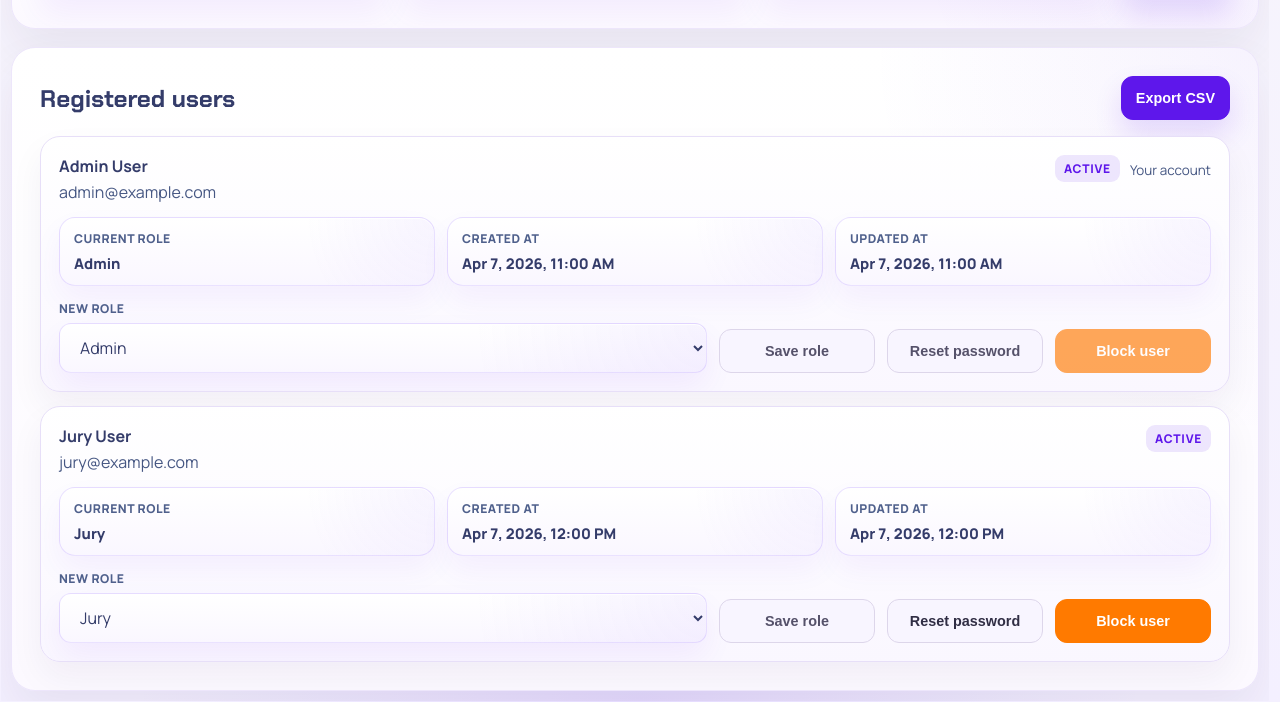
Test: AdminUsersPage › loads users, updates role, and blocks a user
(page scrolled)
Check: the text "Jury User" is shown, box [59,426,132,448]
Select "Organizer" in the dropdown labelled "New role" below "jury@example.com" at point(383, 618), box [59,594,707,644]
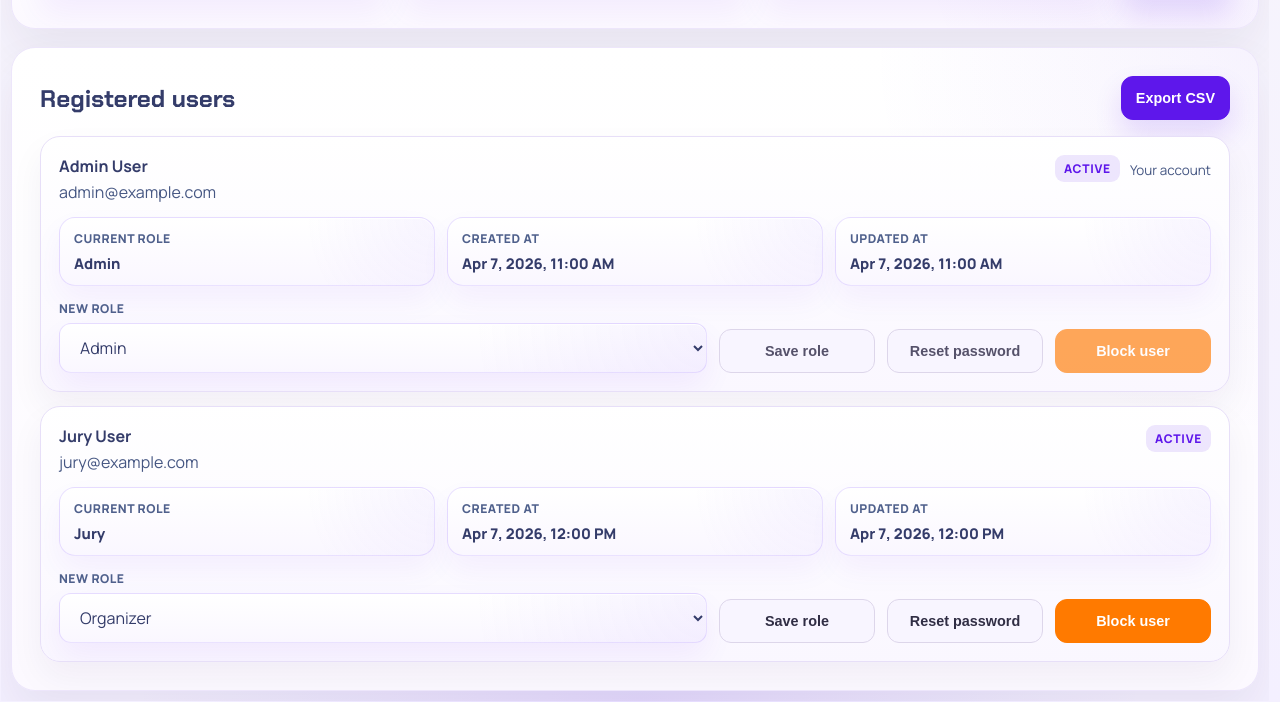
Click the 2nd button "Save role" at point(797, 622), box [719,600,875,644]
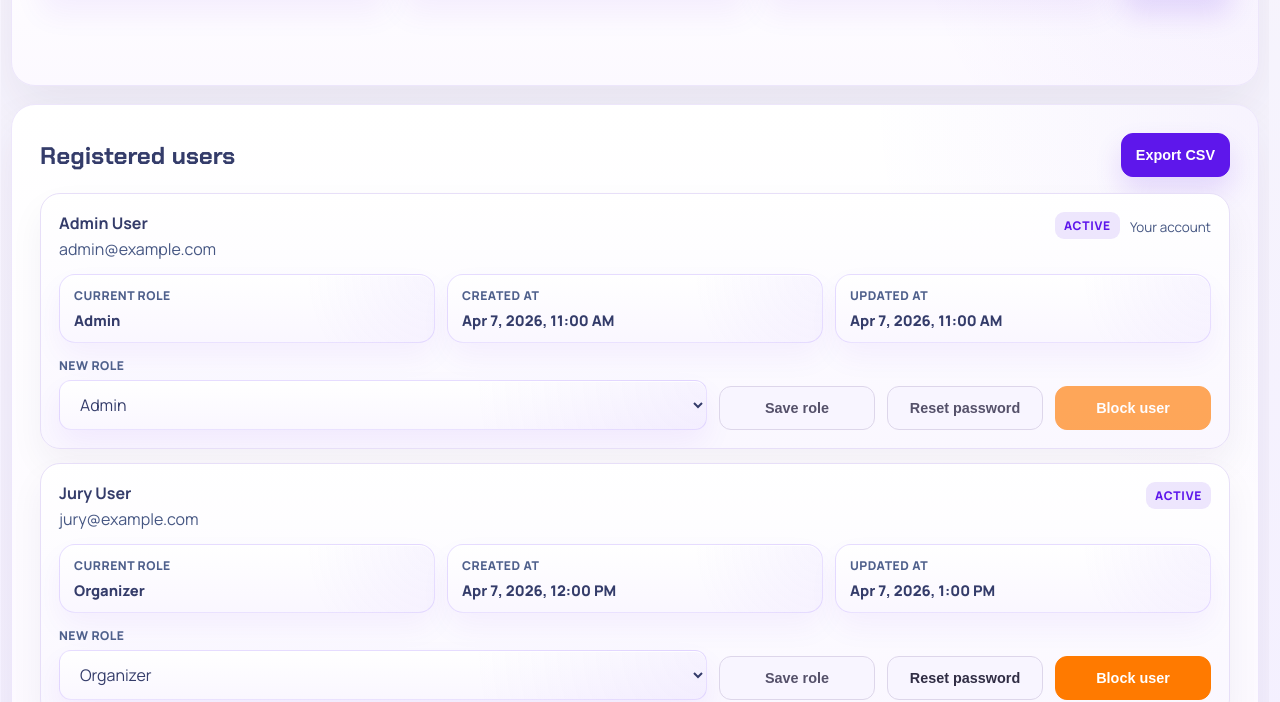
Click the button "Block user" below "Apr 7, 2026, 1:00 PM" at point(1133, 678), box [1055,656,1211,700]
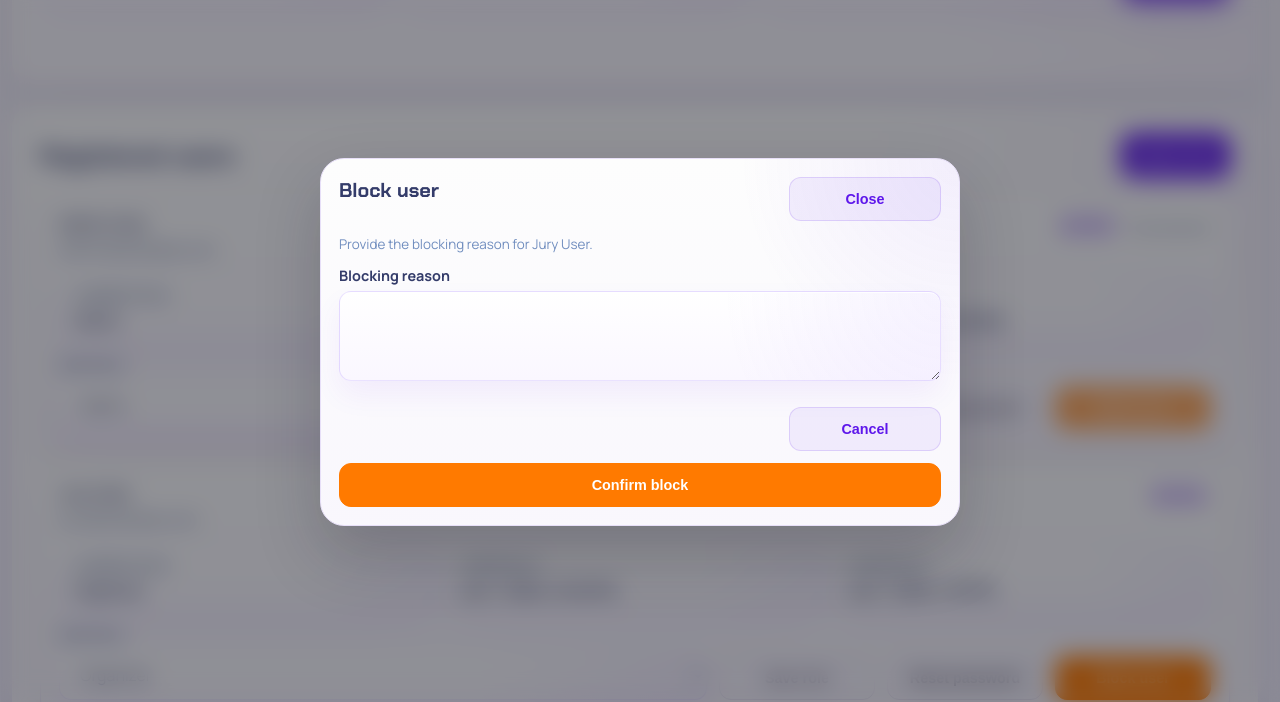
Type "Repeated policy violations" into the text box labelled "Blocking reason" at point(640, 336), box [339,291,941,381]
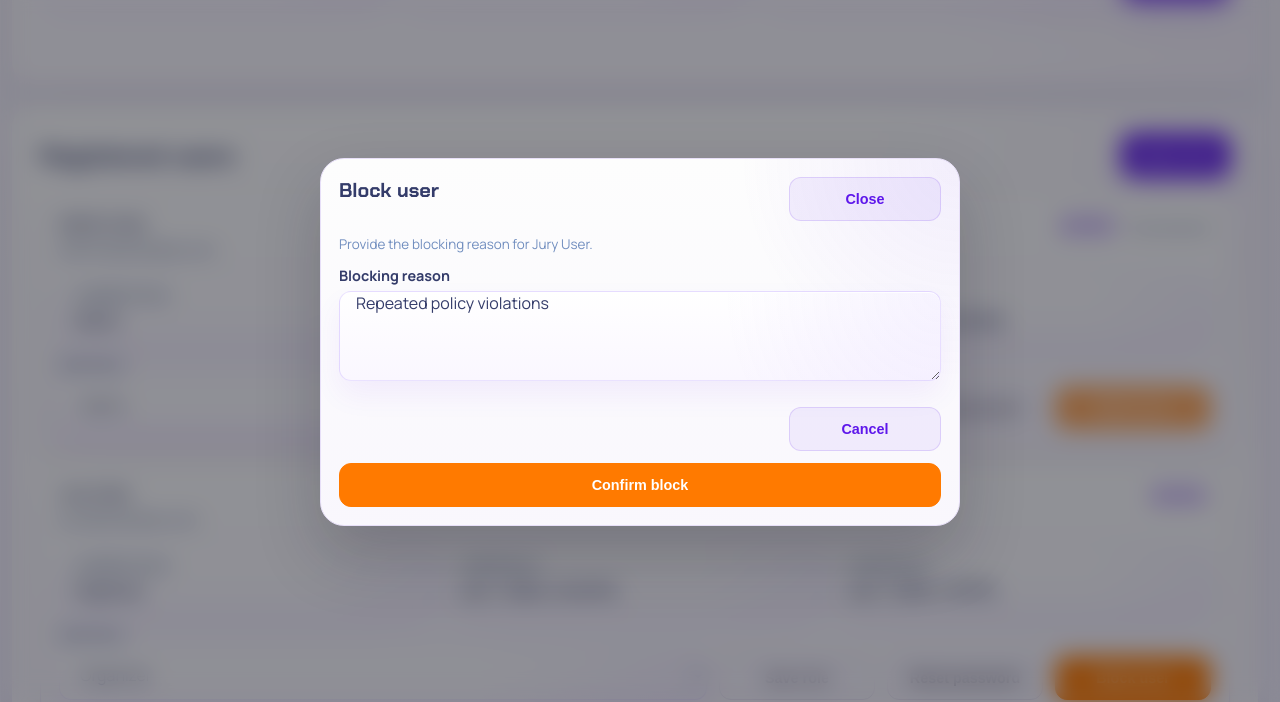
Click the button "Confirm block" at point(640, 485), box [339,463,941,507]
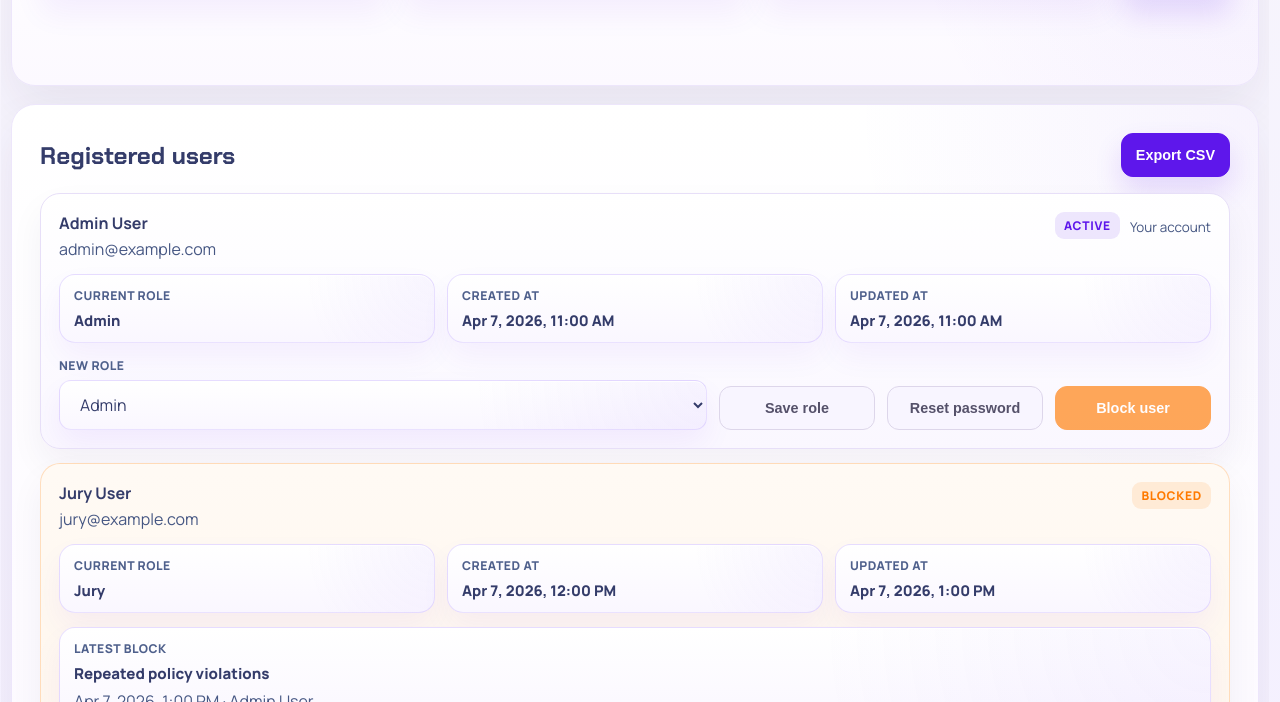
Check: the text "Latest block" is shown, box [74,640,167,658]
Check: the text "Repeated policy violations" is shown, box [74,664,270,684]
